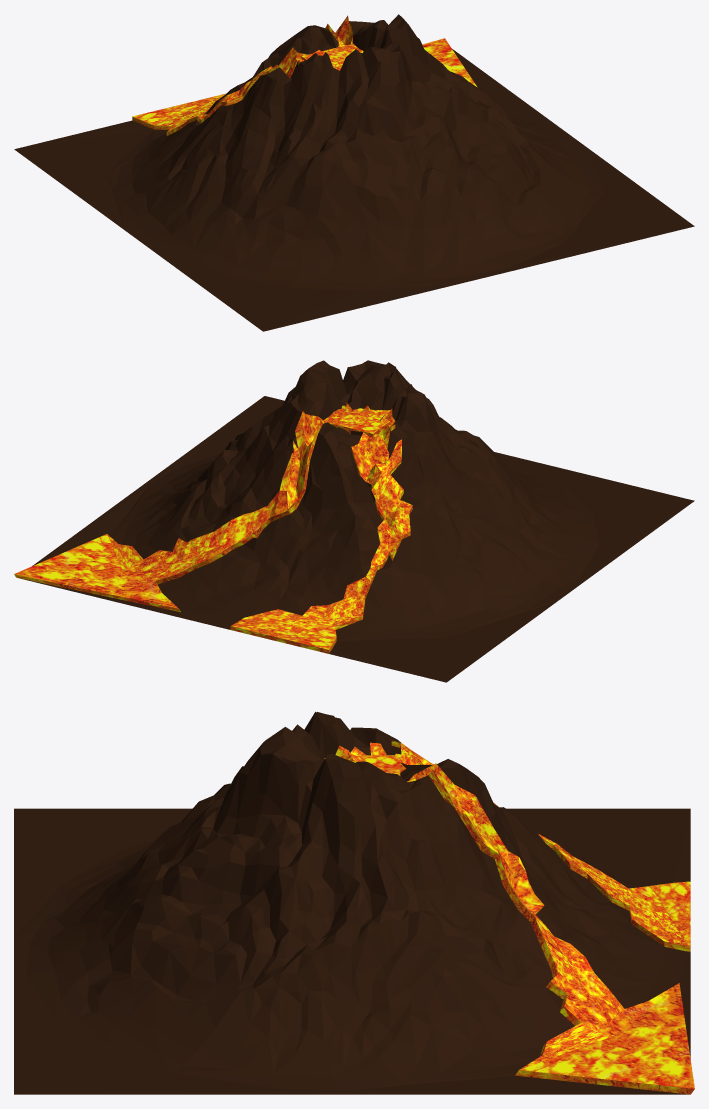
Rendered from volcan.obj.
3 renders of one model, top to bottom at view 1: azimuth 30°, elevation 25°; view 2: azimuth 150°, elevation 25°; view 3: azimuth 270°, elevation 25°, orthographic. The views are drawn at different scales.
Parts seen in each view (by area): view 1: Volcano_Landscape, Lava_Plane; view 2: Volcano_Landscape, Lava_Plane; view 3: Volcano_Landscape, Lava_Plane.
Part boxes in pixels (bbox=[...]): Volcano_Landscape: bbox=[14, 14, 694, 331]; Lava_Plane: bbox=[301, 43, 363, 70]; Volcano_Landscape: bbox=[14, 360, 694, 682]; Lava_Plane: bbox=[323, 408, 390, 437]; Volcano_Landscape: bbox=[14, 711, 694, 1094]; Lava_Plane: bbox=[324, 755, 400, 775].
Bounding box in the file's own units: 99.54 × 35.76 × 100.
